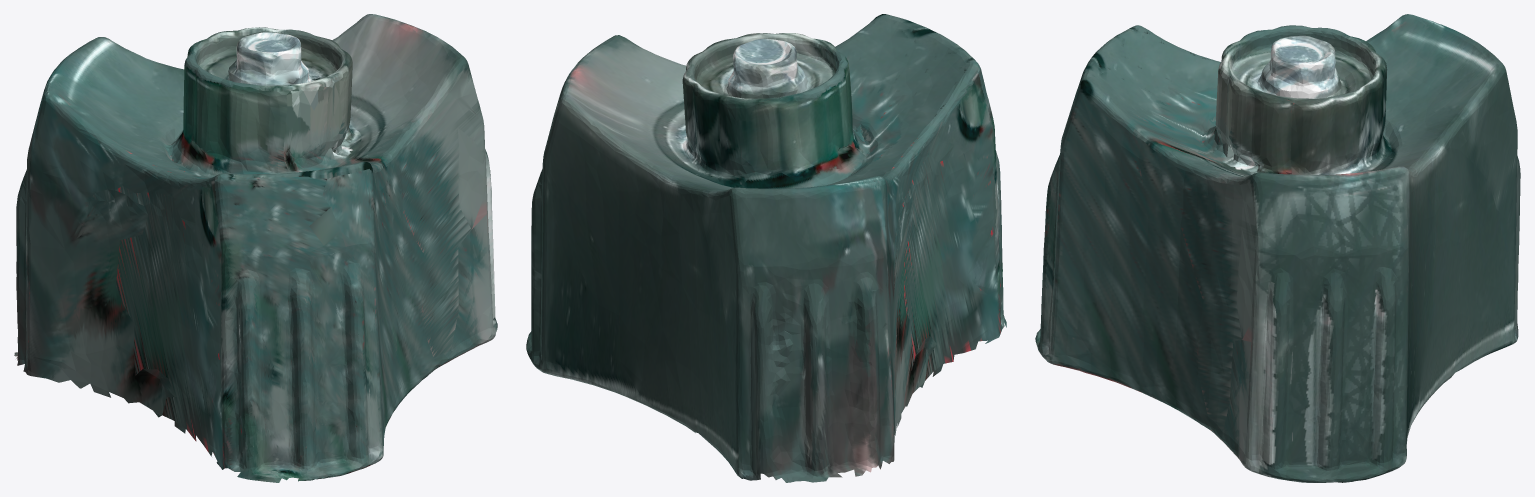
The model's file is tape_wheel.glb.
3 renders of one model, left to right at view 1: azimuth 30°, elevation 25°; view 2: azimuth 150°, elevation 25°; view 3: azimuth 270°, elevation 25°, orthographic.
Parts seen in each view (by area): view 1: tape_wheel; view 2: tape_wheel; view 3: tape_wheel.
Boxes of the visible parts, x1,y1,x2,y2 form: tape_wheel: [14, 14, 497, 482]; tape_wheel: [526, 14, 1006, 482]; tape_wheel: [1035, 14, 1520, 482].
Bounding box in the file's own units: 0.0707 × 0.0556 × 0.0729.
20 materials, 20 textured.
